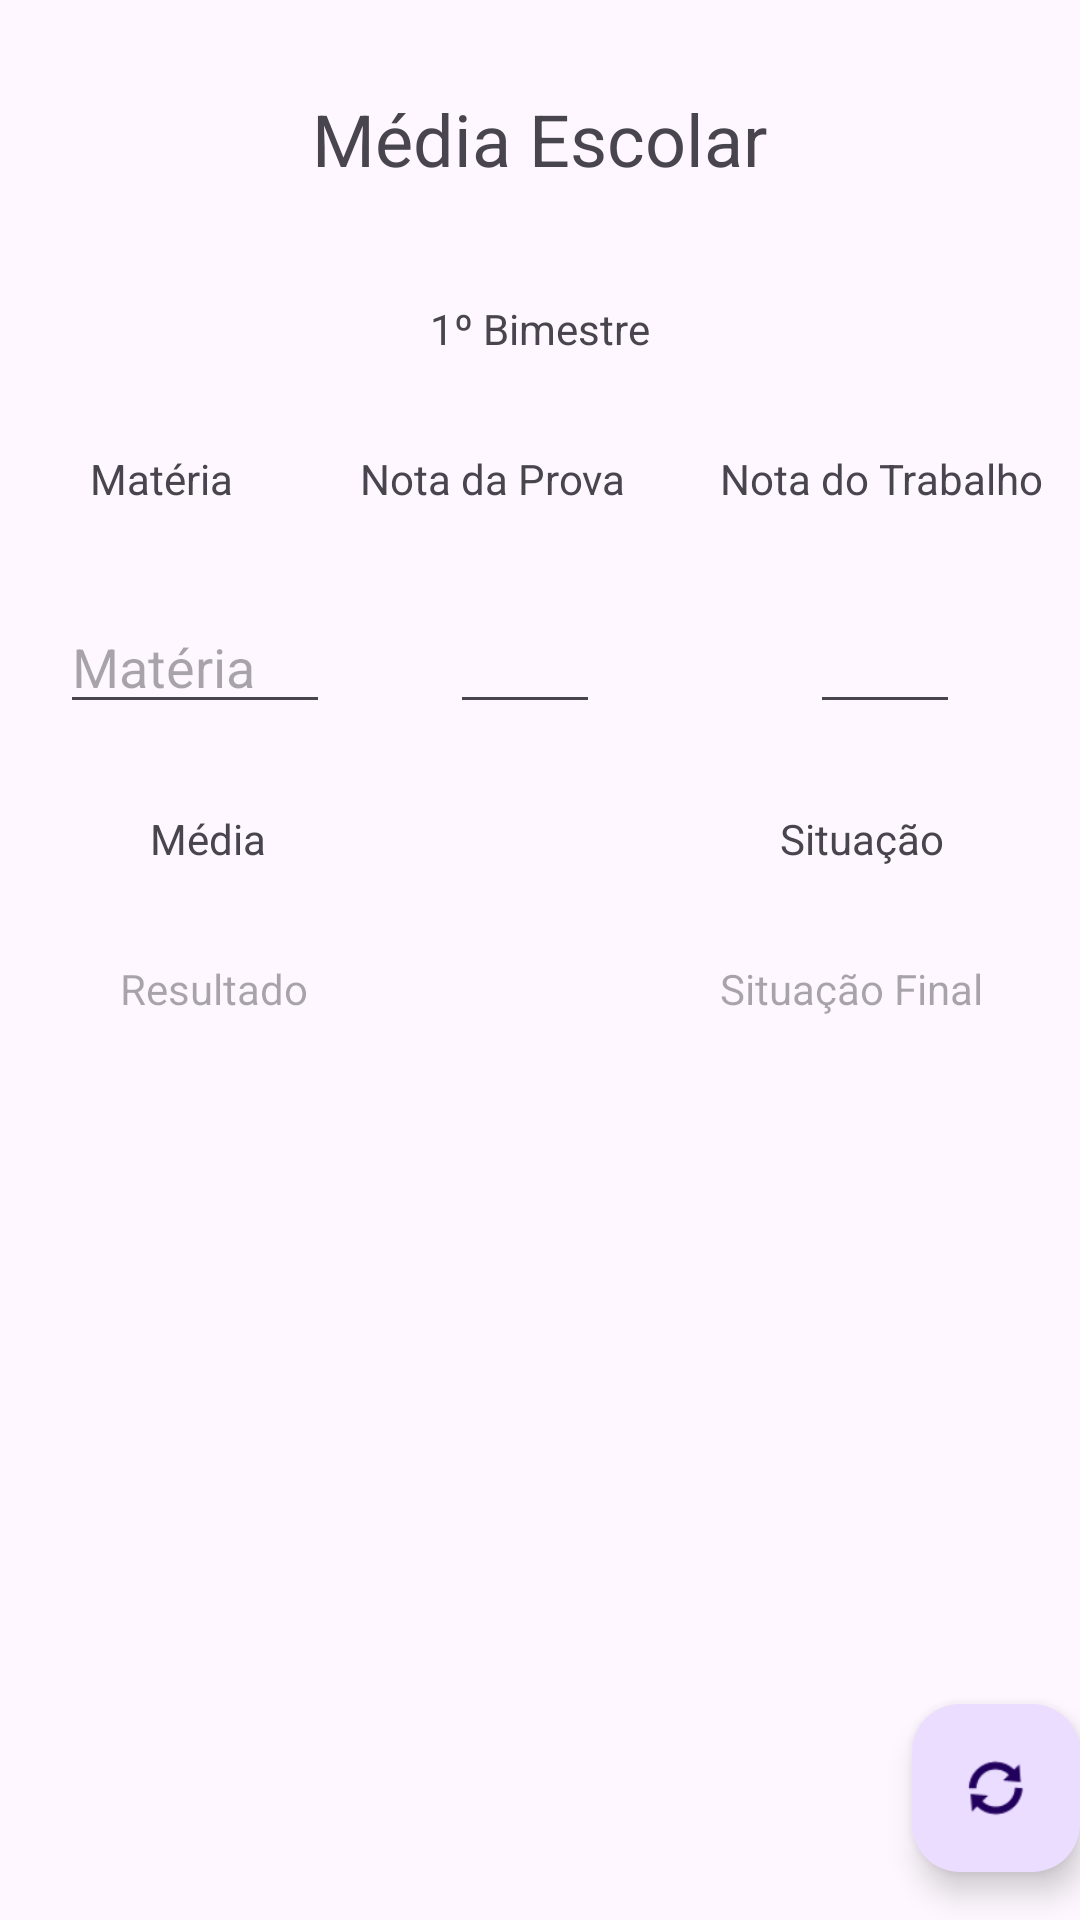

Screen size 1080px×1920px. Icon name, then its center in pixels as (x,y):
popup sync: (996,1788)
